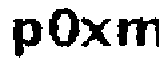0: (48, 6, 80, 48)
m: (114, 14, 160, 50)
p: (10, 15, 45, 60)
x: (81, 16, 111, 48)
